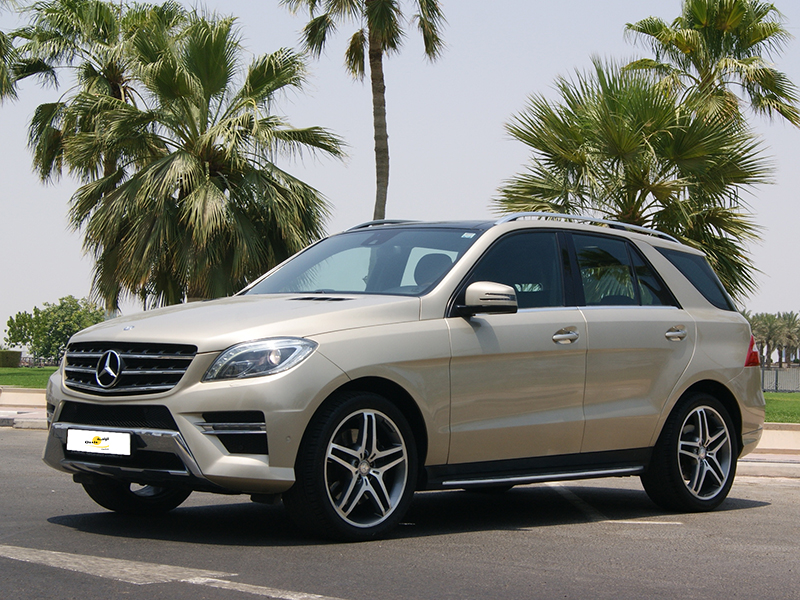other: (56, 212, 770, 527)
